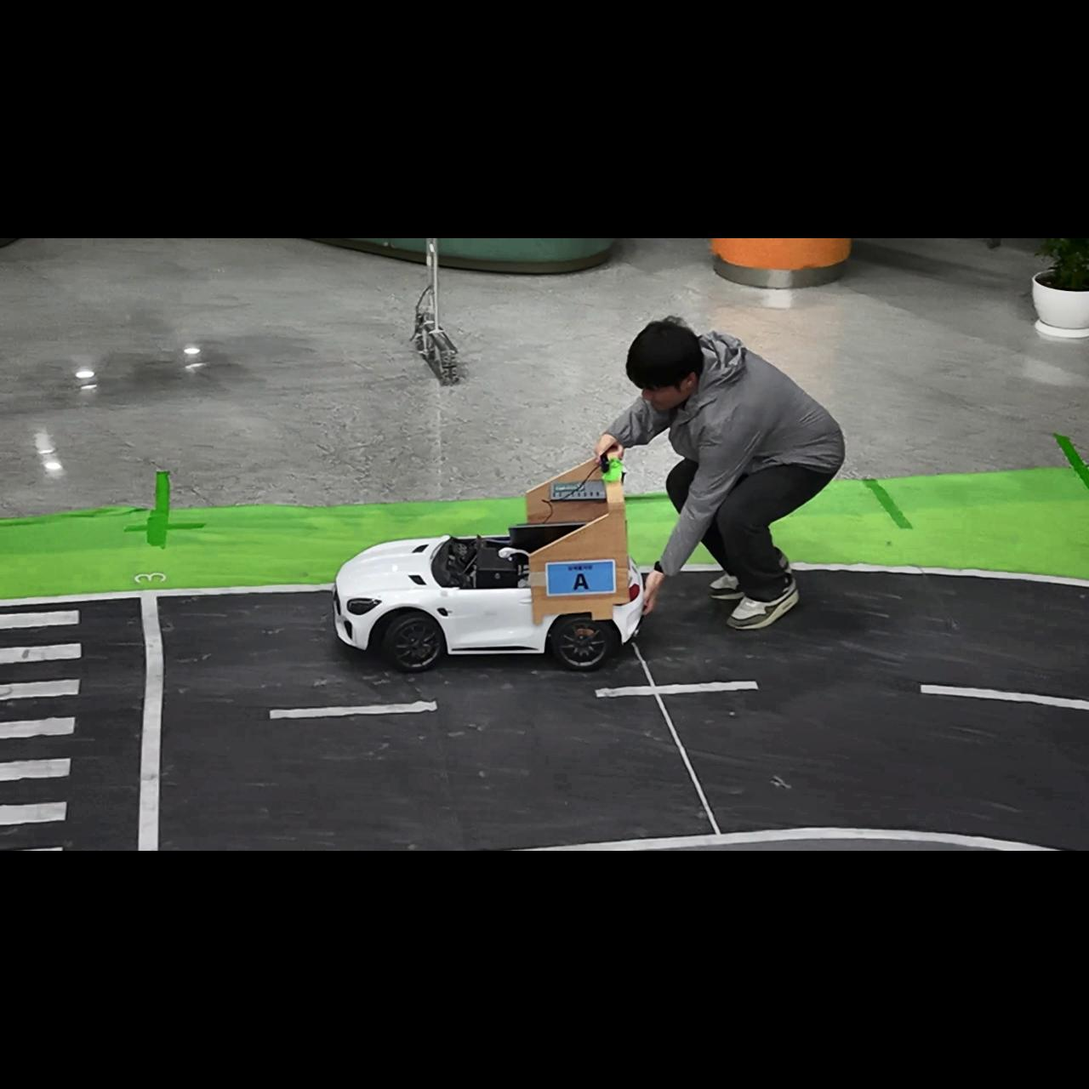broken_line: (921, 684, 1088, 711), (269, 700, 438, 719), (595, 681, 759, 698)
crosswalk: (0, 610, 82, 850)
